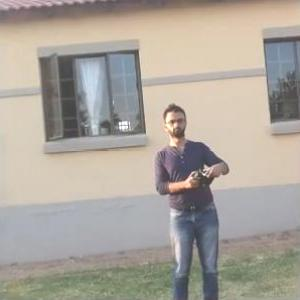follow: (146, 95, 234, 299)
